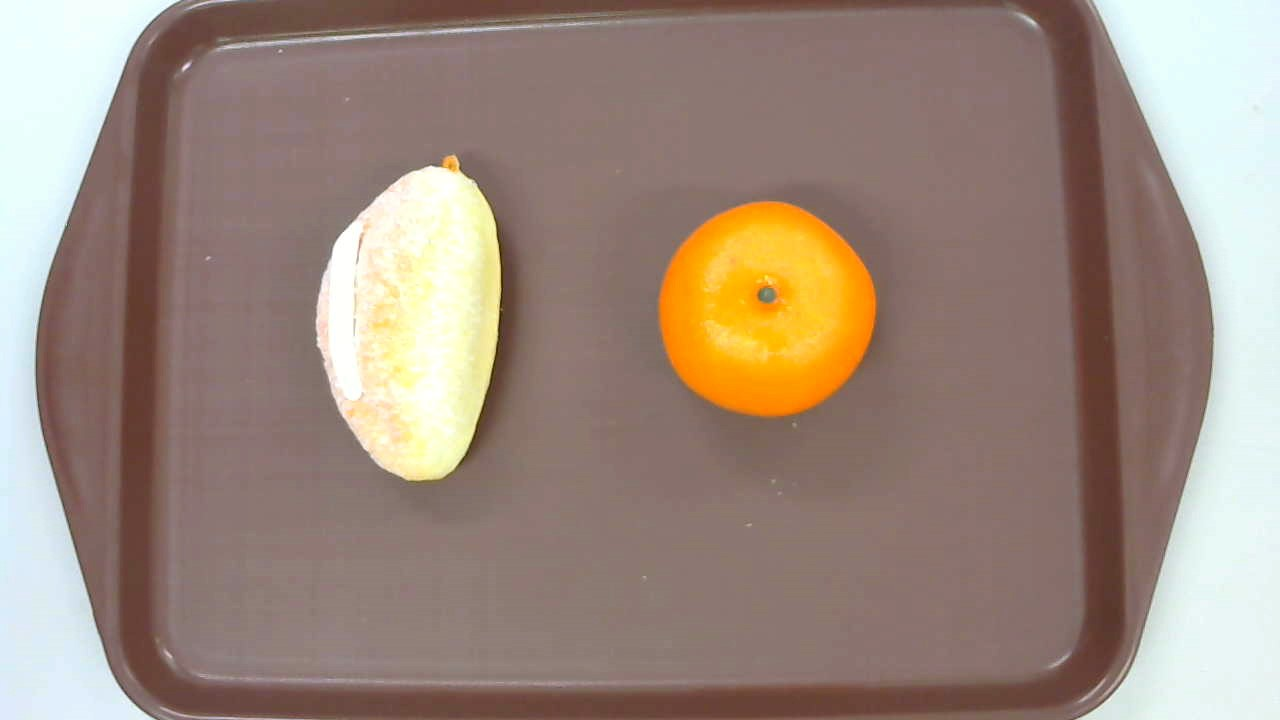coconut: (314, 154, 503, 482)
orange: (658, 200, 877, 419)
